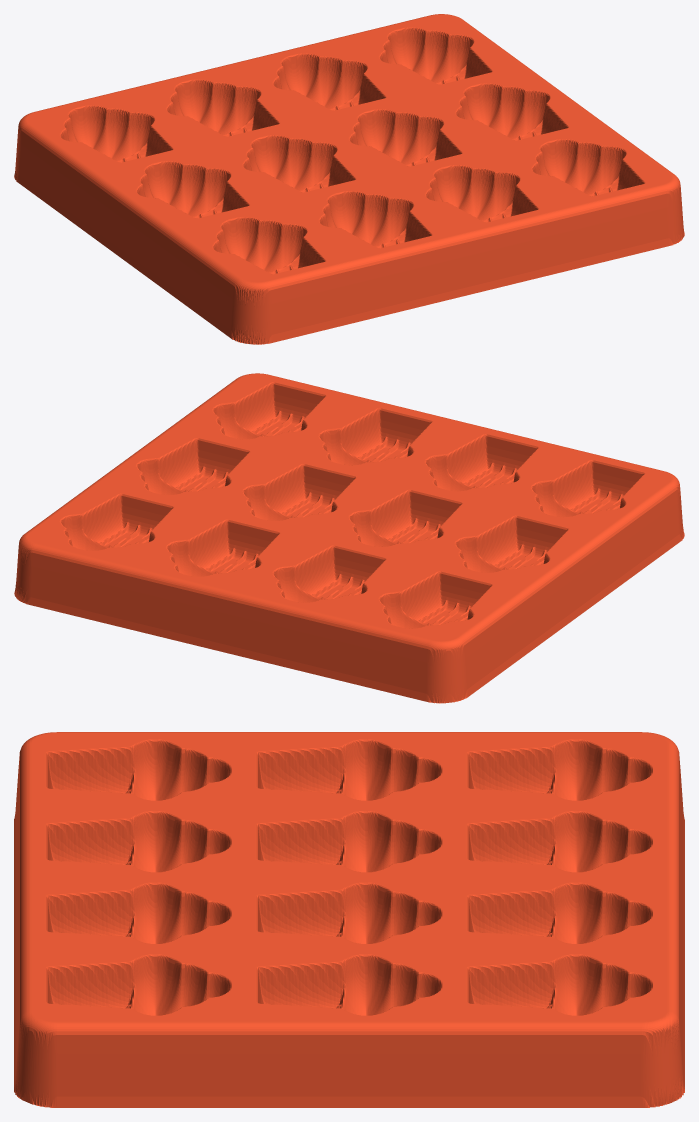
Rendered from mold.glb.
3 renders of one model, top to bottom at view 1: azimuth 30°, elevation 25°; view 2: azimuth 150°, elevation 25°; view 3: azimuth 270°, elevation 25°, orthographic. The views are drawn at different scales.
Parts seen in each view (by area): view 1: geometry_0; view 2: geometry_0; view 3: geometry_0.
Boxes of the visible parts, box(x1,y1,x2,y2) form: geometry_0: box(14, 14, 684, 344); geometry_0: box(14, 373, 684, 703); geometry_0: box(14, 732, 684, 1107).
Bounding box in the file's own units: 0.1508 × 0.0182 × 0.141.
